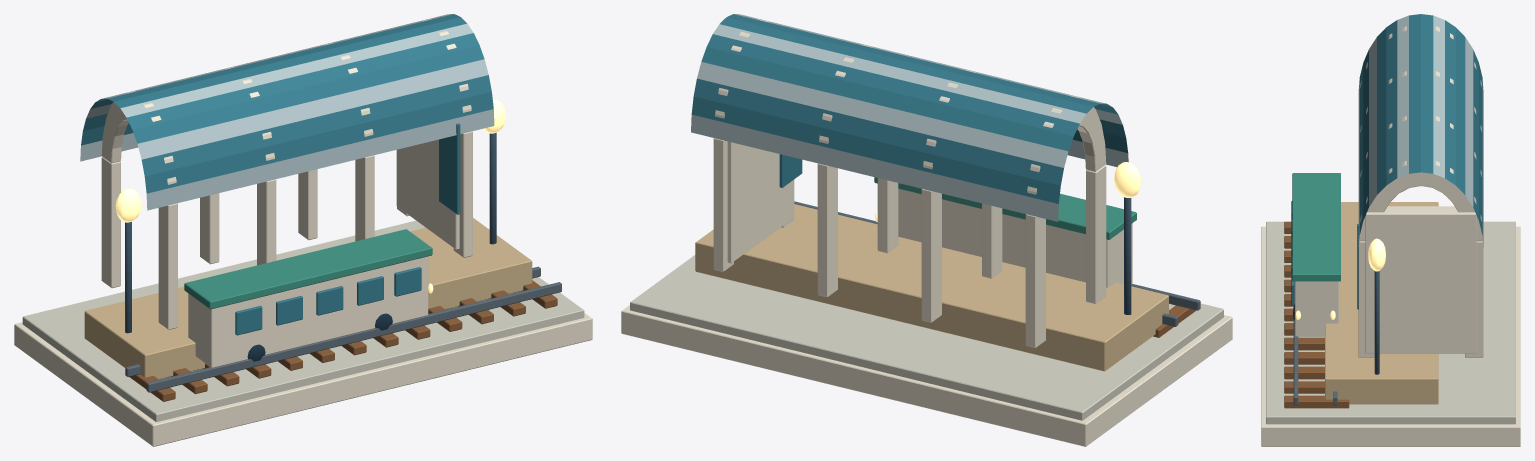
File: transit-station-east.glb
3 renders of one model, left to right at view 1: azimuth 30°, elevation 25°; view 2: azimuth 150°, elevation 25°; view 3: azimuth 270°, elevation 25°, orthographic. The views are drawn at different scales.
Visible parts, largest first — view 1: Transit Station · East; view 2: Transit Station · East; view 3: Transit Station · East.
Boxes of the visible parts, <box> form: Transit Station · East: <box>14,14,592,446</box>; Transit Station · East: <box>621,14,1232,446</box>; Transit Station · East: <box>1261,14,1520,446</box>.
Bounding box in the file's own units: 1.47 × 0.87 × 0.8064.
